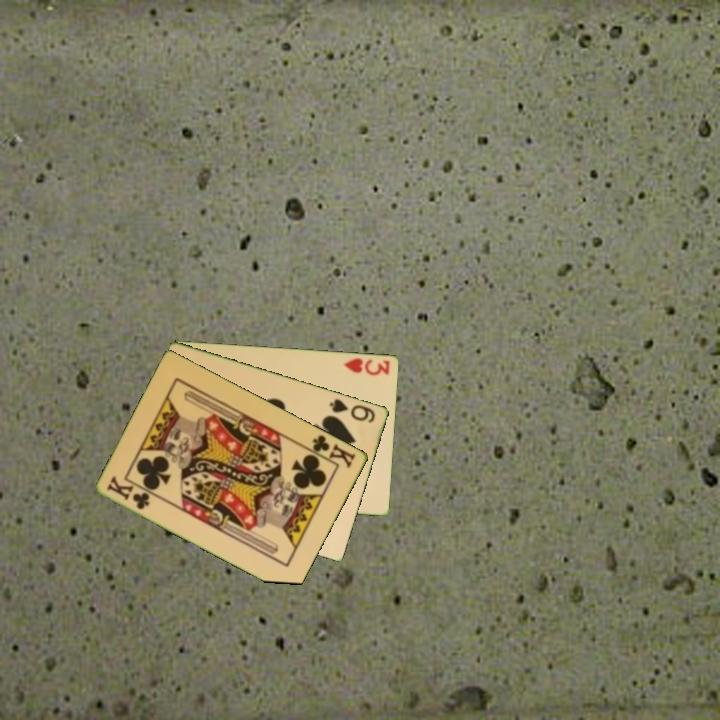3h: (340, 354, 393, 378)
6s: (326, 395, 378, 426)
Kc: (303, 431, 359, 471), (104, 472, 153, 512)
